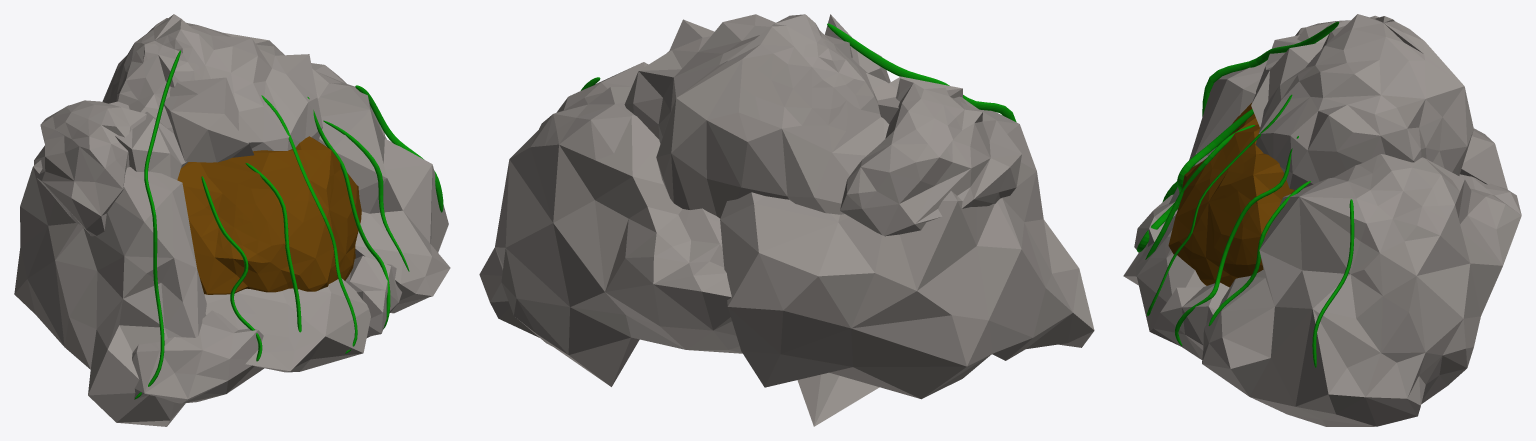
File: Cave01_Animation.fbx
The picture shows the model from 3 angles, left to right: view 1: azimuth 30°, elevation 25°; view 2: azimuth 150°, elevation 25°; view 3: azimuth 270°, elevation 25°; orthographic projection. The views are drawn at different scales.
Parts seen in each view (by area): view 1: TigersDen, Dirt, Vines; view 2: TigersDen, Vines; view 3: TigersDen, Dirt, Vines.
Part boxes in pixels (x1,y1,x2,y2): TigersDen: (14,14,450,426); Dirt: (177,136,361,294); Vines: (135,50,443,399); TigersDen: (479,14,1094,426); Vines: (580,23,1016,122); TigersDen: (1123,14,1521,426); Dirt: (1168,103,1294,287); Vines: (1137,21,1354,367).
Size of the model in its own units: 1182 by 847 by 948.
